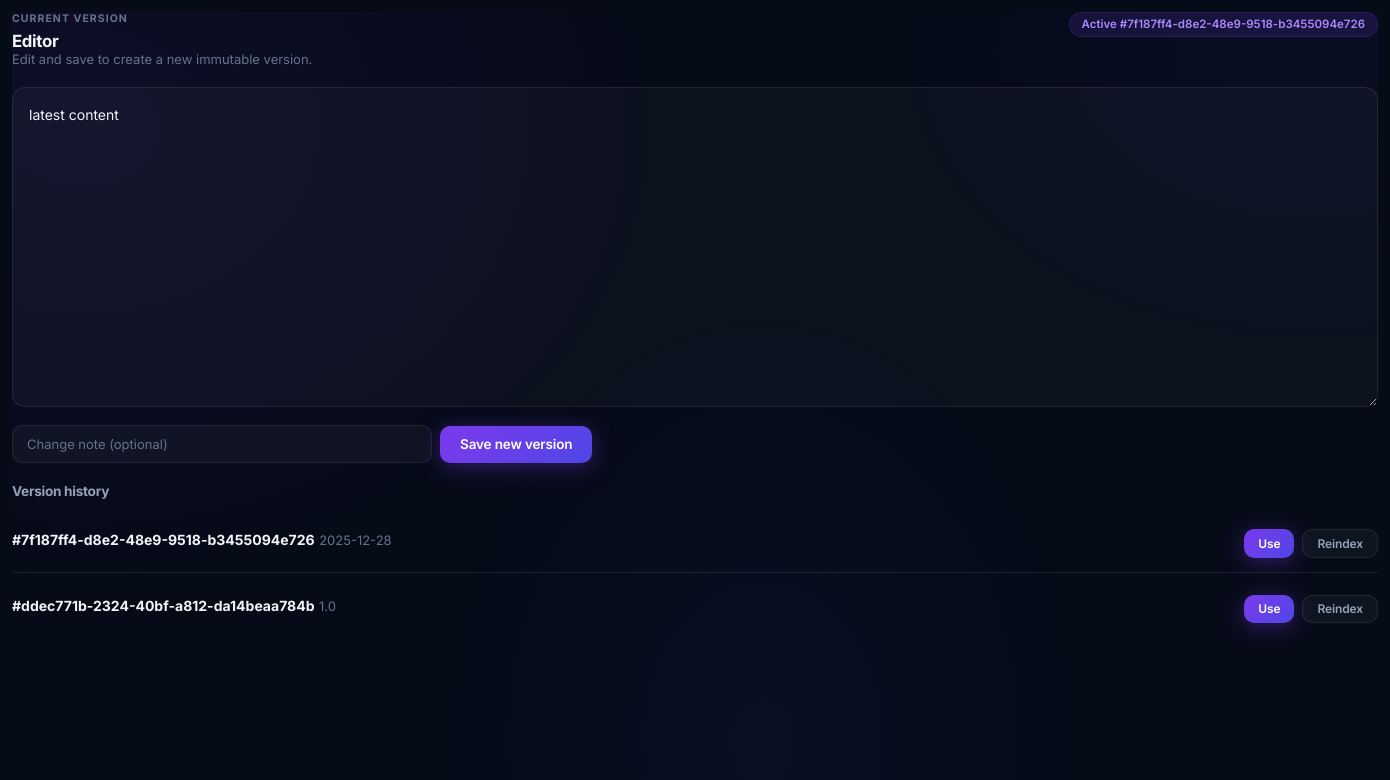
Test case: PlaybookManager › switches active version when "Use" is clicked and persists selection
Click the button "Use" in the row of "ddec771b-2324-40bf-a812-da14beaa784b": (1269, 609) [1244,595,1294,623]
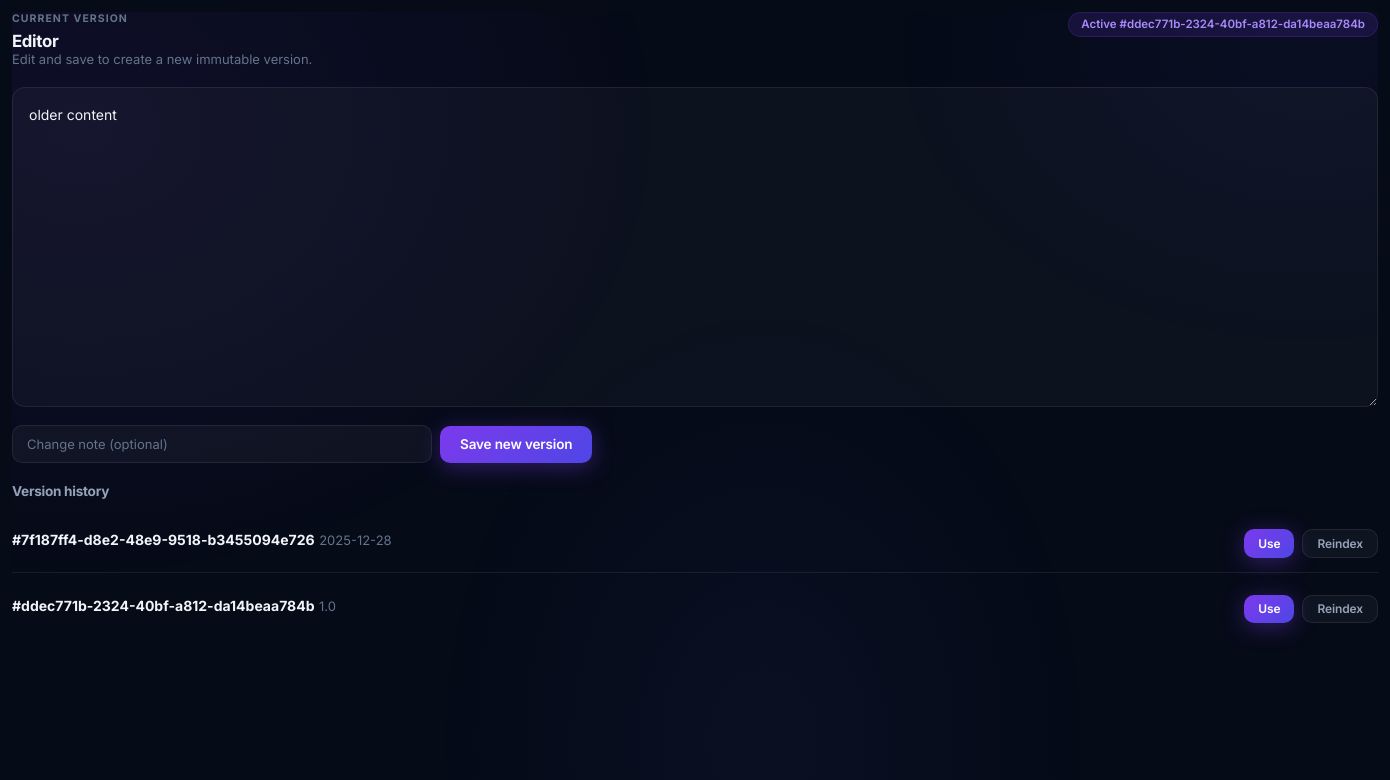
Result: the text box showing "older content" is shown at [12,87,1378,407]
